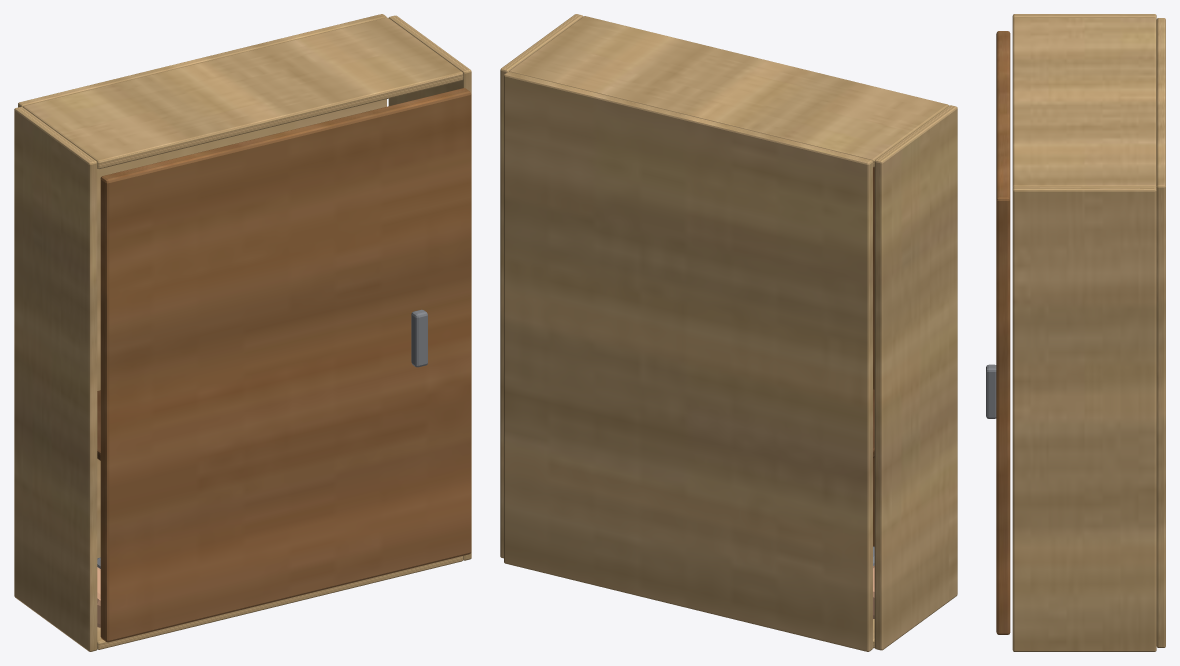
Rendered from shoe_cabinet.glb.
The picture shows the model from 3 angles, left to right: view 1: azimuth 30°, elevation 25°; view 2: azimuth 150°, elevation 25°; view 3: azimuth 270°, elevation 25°; orthographic projection. The views are drawn at different scales.
Parts seen in each view (by area): view 1: part_door__shoe_cabinet, shoe_body_left, shoe_body_top, shoe_body_back, shoe_body_bottom, shoe_body_right; view 2: shoe_body_back, shoe_body_left, shoe_body_top, shoe_body_right; view 3: shoe_body_right, shoe_body_top, part_door__shoe_cabinet, shoe_body_back, shoe_body_left.
Boxes of the visible parts, x1,y1,x2,y2 form: part_door__shoe_cabinet: (100,88,471,642); shoe_body_left: (14,107,97,651); shoe_body_top: (23,17,463,169); shoe_body_back: (18,14,386,558); shoe_body_bottom: (97,556,463,649); shoe_body_right: (388,15,471,560); shoe_body_back: (504,71,872,651); shoe_body_left: (874,105,957,650); shoe_body_top: (509,16,948,167); shoe_body_right: (500,14,582,558); shoe_body_right: (1012,186,1156,651); shoe_body_top: (1012,18,1156,187); part_door__shoe_cabinet: (986,31,1010,634); shoe_body_back: (1156,18,1165,647); shoe_body_left: (1012,14,1156,18).
Size of the model in its own units: 0.9 by 1.1 by 0.3875.
7 materials, 3 textured.
